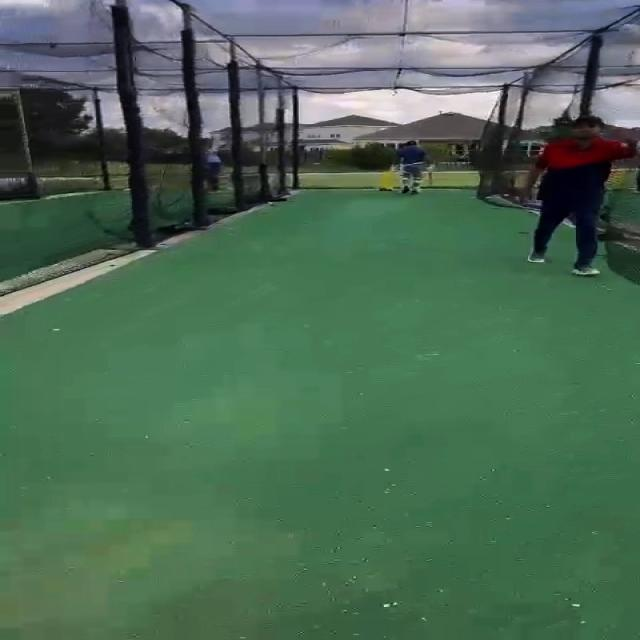batsman: (389, 139, 439, 197)
